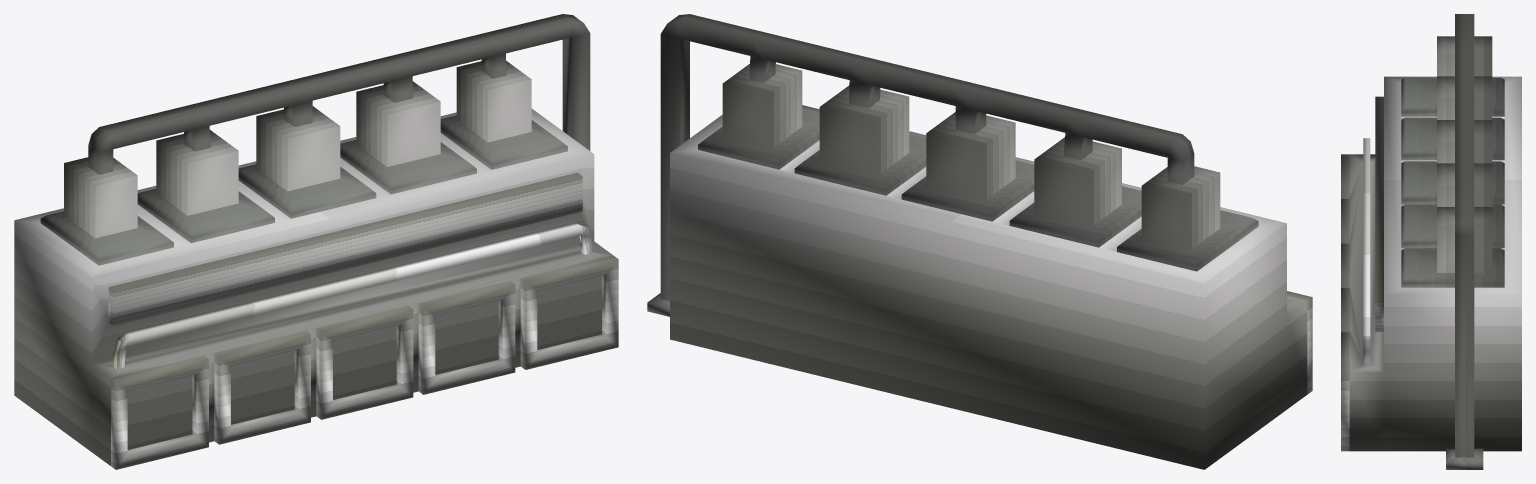
The model's file is DL_Obj_Level3_MachinerySorter.fbx.
3 renders of one model, left to right at view 1: azimuth 30°, elevation 25°; view 2: azimuth 150°, elevation 25°; view 3: azimuth 270°, elevation 25°, orthographic. The views are drawn at different scales.
Visible parts, largest first — view 1: Level3_MachinerySorter; view 2: Level3_MachinerySorter; view 3: Level3_MachinerySorter.
Boxes of the visible parts, x1,y1,x2,y2 form: Level3_MachinerySorter: (14, 14, 618, 469); Level3_MachinerySorter: (647, 14, 1312, 469); Level3_MachinerySorter: (1341, 14, 1521, 469).
Bounding box in the file's own units: 326 × 156 × 105.
